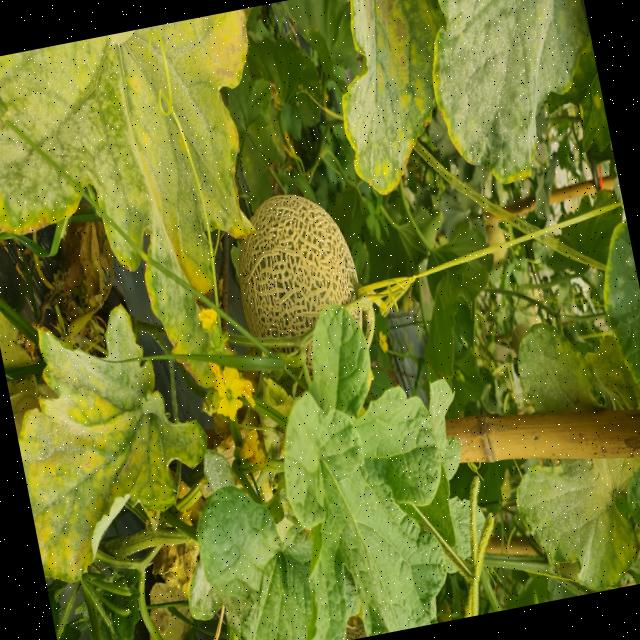melon: (238, 194, 358, 339)
